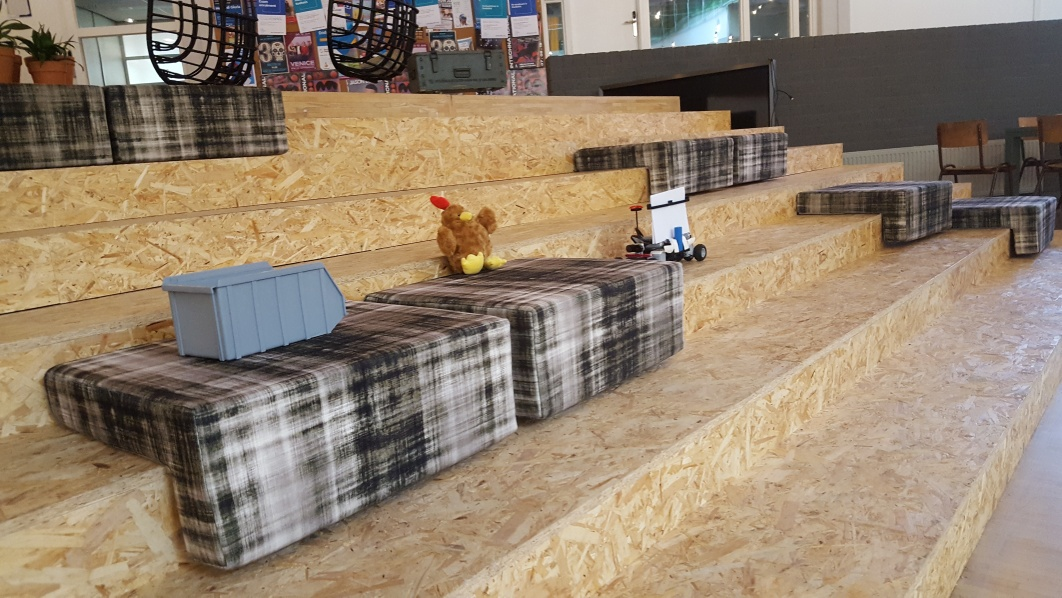beam: (671, 223, 686, 250)
chicken: (424, 193, 509, 278)
tray: (162, 259, 347, 363)
